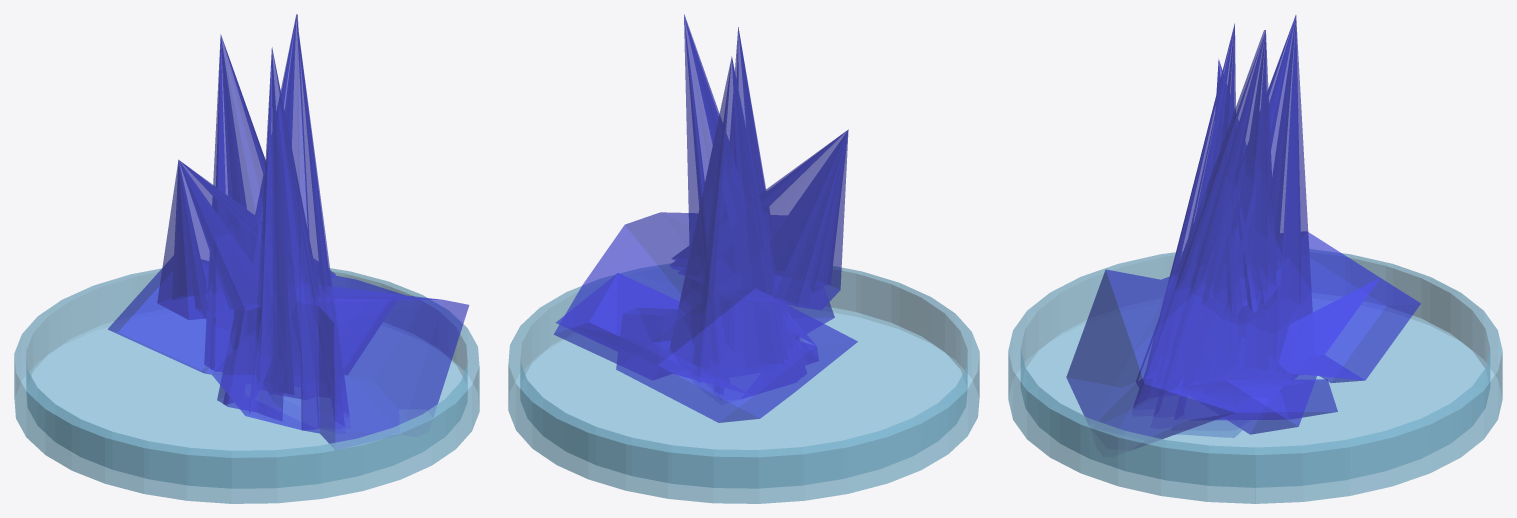
File: cristal1.glb
3 renders of one model, left to right at view 1: azimuth 30°, elevation 25°; view 2: azimuth 150°, elevation 25°; view 3: azimuth 270°, elevation 25°, orthographic. The views are drawn at different scales.
Visible parts, largest first — view 1: Cilindro, Cono.001, Cono.003, Cono, Cono.002; view 2: Cilindro, Cono.001, Cono.002, Cono, Cono.003; view 3: Cilindro, Cono.001, Cono.002, Cono.003, Cono.
Part boxes in pixels (x1,y1,x2,y2): Cilindro: (14, 268, 479, 503); Cono.001: (108, 14, 469, 449); Cono.003: (256, 47, 334, 399); Cono: (157, 159, 335, 320); Cono.002: (204, 34, 303, 386); Cilindro: (508, 263, 979, 503); Cono.001: (554, 14, 857, 422); Cono.002: (669, 56, 788, 382); Cono: (669, 129, 848, 310); Cono.003: (730, 27, 780, 285); Cilindro: (1008, 249, 1502, 503); Cono.001: (1066, 30, 1420, 449); Cono.002: (1168, 15, 1312, 397); Cono.003: (1145, 23, 1236, 385); Cono: (1209, 59, 1281, 315).
Size of the model in its own units: 2 by 1.81 by 2.
